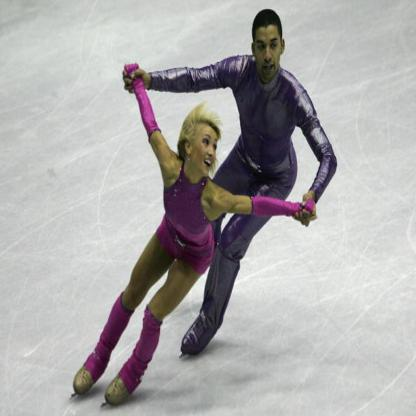face: (255, 24, 283, 78), (194, 123, 218, 177)
